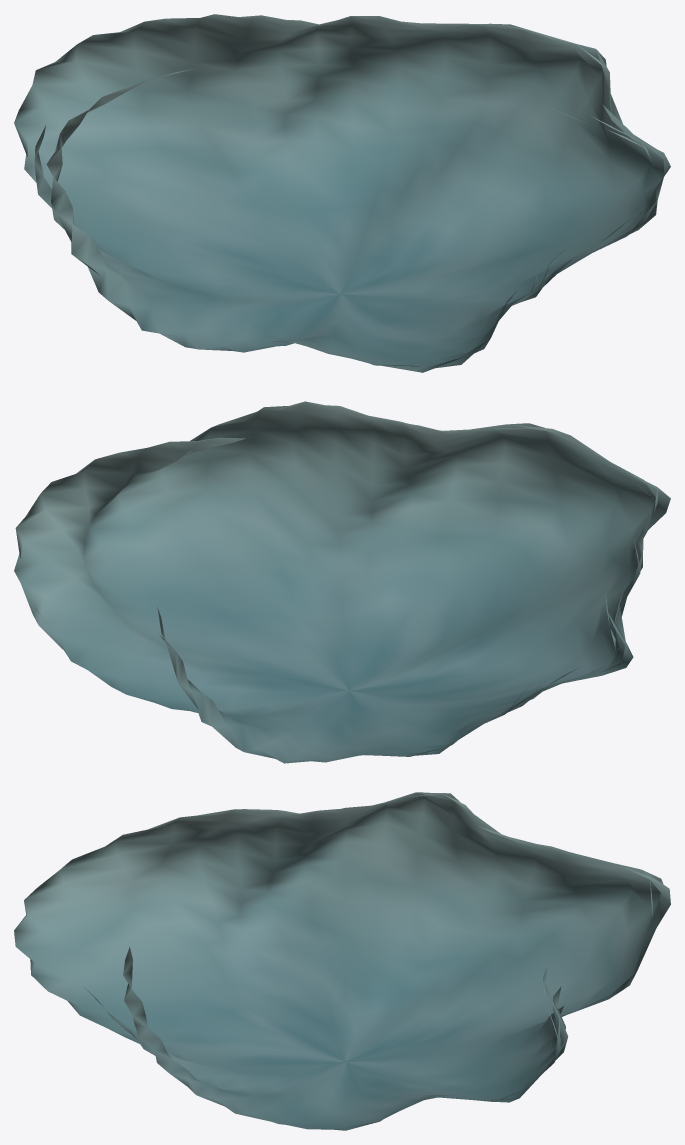
The model's file is reef_rock_b.glb.
3 renders of one model, top to bottom at view 1: azimuth 30°, elevation 25°; view 2: azimuth 150°, elevation 25°; view 3: azimuth 270°, elevation 25°, orthographic. The views are drawn at different scales.
Parts seen in each view (by area): view 1: world; view 2: world; view 3: world.
Part boxes in pixels (x1,y1,x2,y2): world: (14, 14, 670, 372); world: (14, 401, 670, 763); world: (14, 792, 670, 1130).
Bounding box in the file's own units: 2.09 × 0.8 × 2.3.
